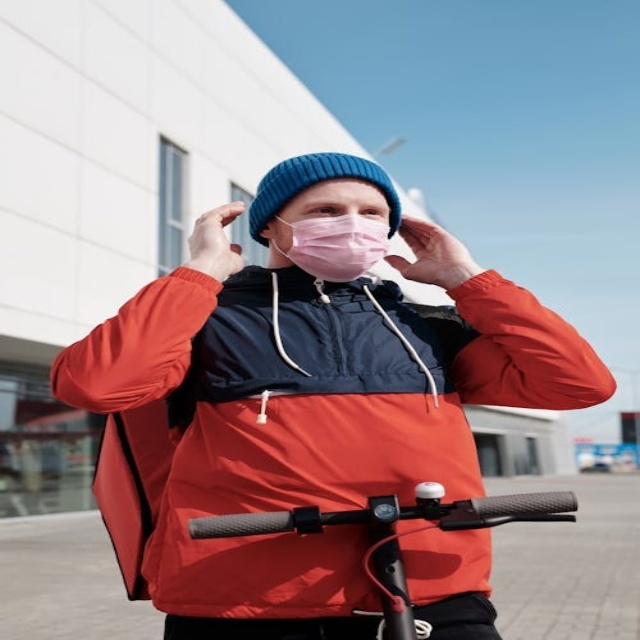Mascara: (273, 211, 391, 280)
Sin_gafas: (298, 197, 385, 220)
Sin_guantes: (383, 207, 463, 278), (184, 197, 248, 266)
